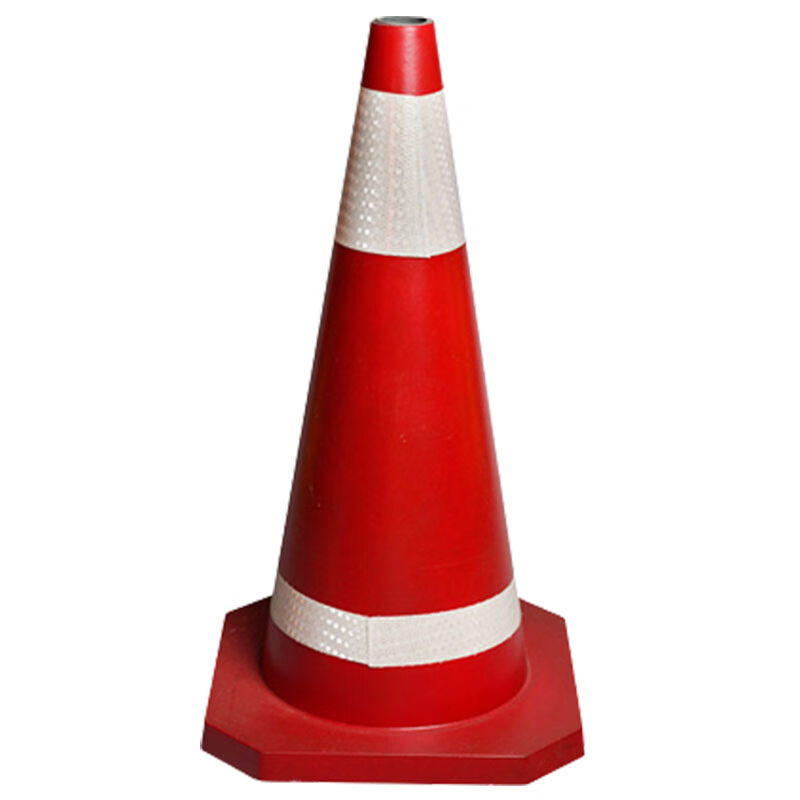traffic_cone: (172, 6, 630, 792)
